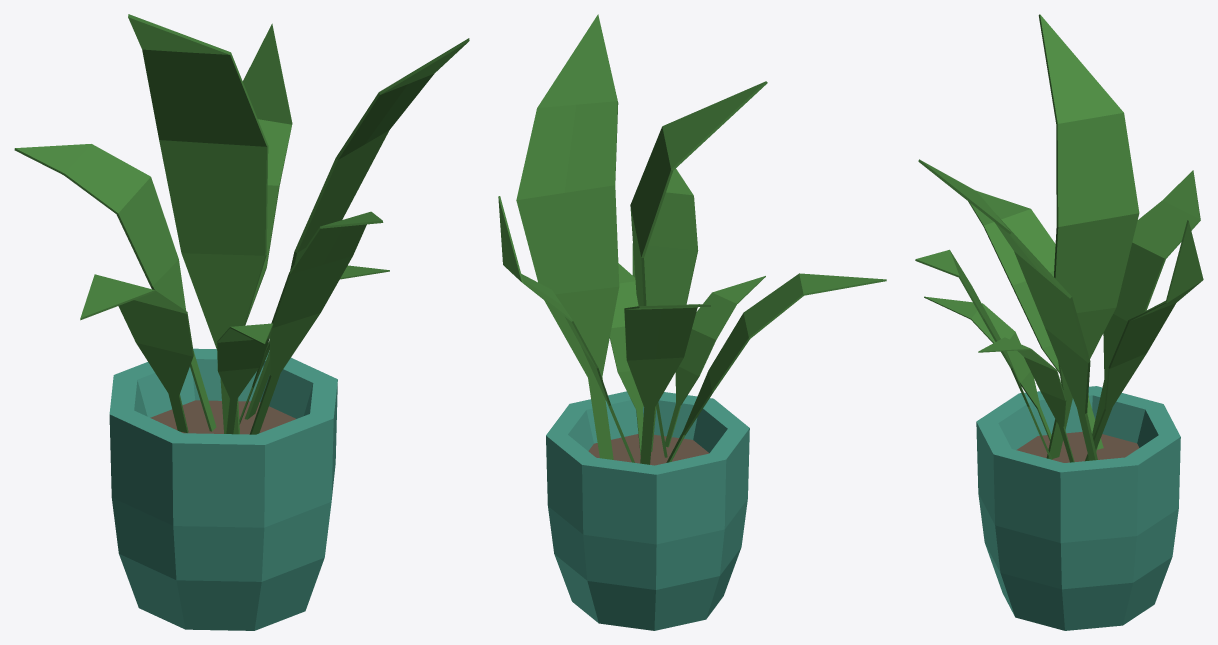
The model's file is Flower_21.fbx.
3 views of the same model, side by side, from view 1: azimuth 30°, elevation 25°; view 2: azimuth 150°, elevation 25°; view 3: azimuth 270°, elevation 25° (orthographic). The views are drawn at different scales.
Parts seen in each view (by area): view 1: Flower_21; view 2: Flower_21; view 3: Flower_21.
Boxes of the visible parts, box(x1,y1,x2,y2) form: Flower_21: box(14, 14, 469, 630); Flower_21: box(498, 14, 886, 630); Flower_21: box(915, 14, 1203, 630).
Size of the model in its own units: 102 by 77.76 by 159.
